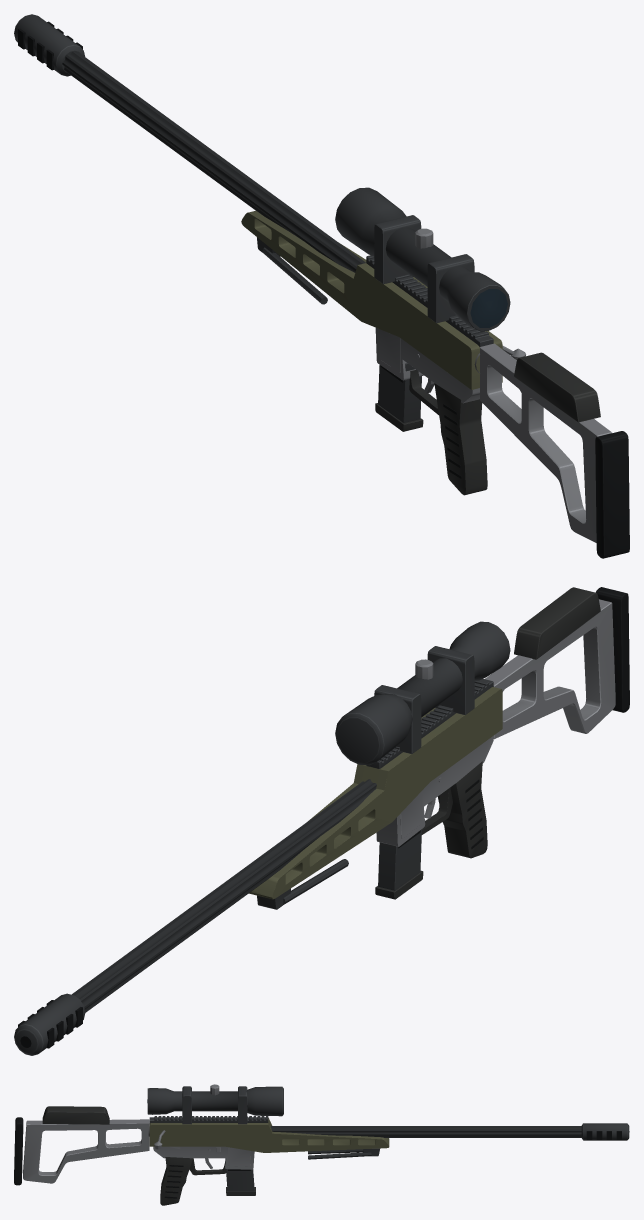
File: sniper.glb
3 renders of one model, top to bottom at view 1: azimuth 30°, elevation 25°; view 2: azimuth 150°, elevation 25°; view 3: azimuth 270°, elevation 25°, orthographic. The views are drawn at different scales.
Visible parts, largest first — view 1: Body, ThirdPersonOnly, IronSight, Cell; view 2: Body, ThirdPersonOnly, IronSight, Cell; view 3: Body, ThirdPersonOnly, IronSight, Cell.
Boxes of the visible parts, <box> form: Body: <box>14,14,525,495</box>; ThirdPersonOnly: <box>480,343,629,558</box>; IronSight: <box>335,187,510,331</box>; Cell: <box>375,363,423,431</box>; Body: <box>14,679,502,1055</box>; ThirdPersonOnly: <box>485,587,629,739</box>; IronSight: <box>335,621,510,765</box>; Cell: <box>375,829,423,899</box>; Body: <box>148,1116,629,1205</box>; ThirdPersonOnly: <box>14,1106,149,1185</box>; IronSight: <box>147,1084,283,1124</box>; Cell: <box>225,1158,255,1195</box>.
Size of the model in its own units: 0.108 by 0.3253 by 1.55.
